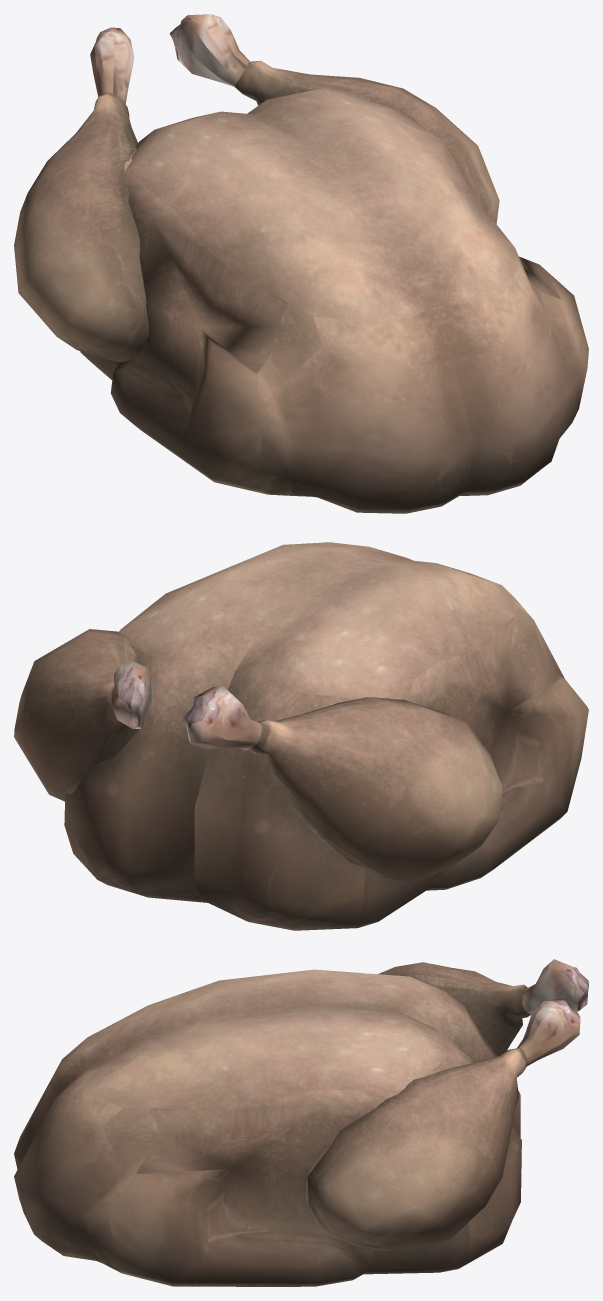
Rendered from Chicken.fbx.
3 renders of one model, top to bottom at view 1: azimuth 30°, elevation 25°; view 2: azimuth 150°, elevation 25°; view 3: azimuth 270°, elevation 25°, orthographic. The views are drawn at different scales.
Parts seen in each view (by area): view 1: polySurface26; view 2: polySurface26; view 3: polySurface26.
Part boxes in pixels (x1,y1,x2,y2): polySurface26: [14, 14, 588, 513]; polySurface26: [14, 542, 588, 930]; polySurface26: [14, 959, 588, 1286].
Size of the model in its own units: 11.96 by 7.13 by 15.05.
1 material, 1 textured.
